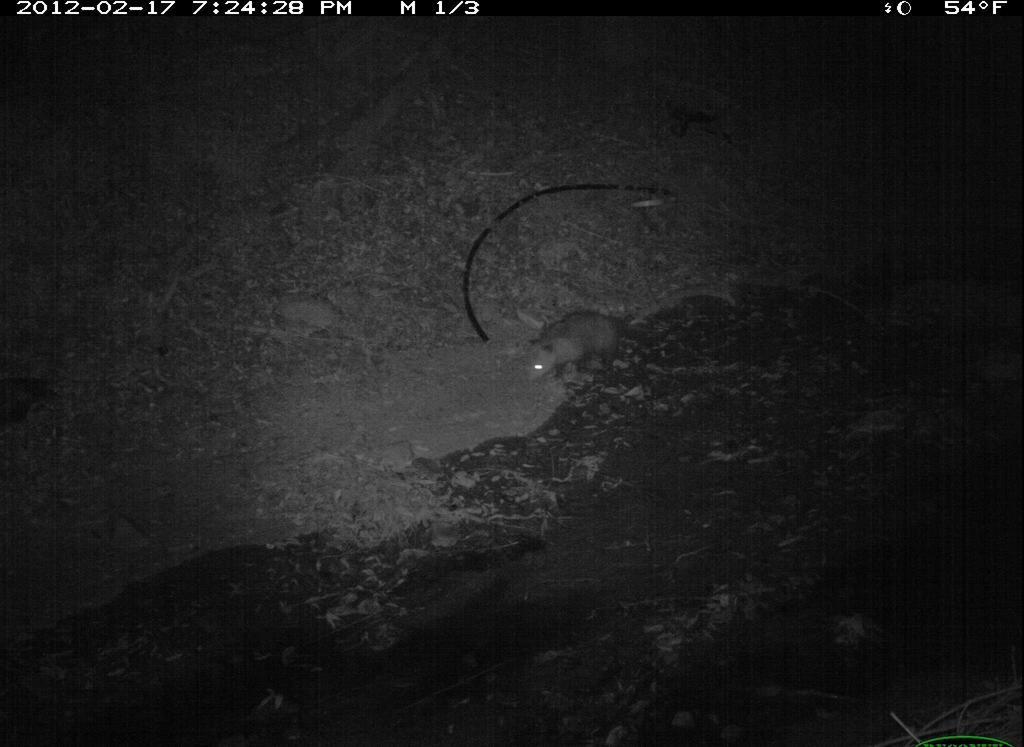opossum: (513, 304, 676, 406)
